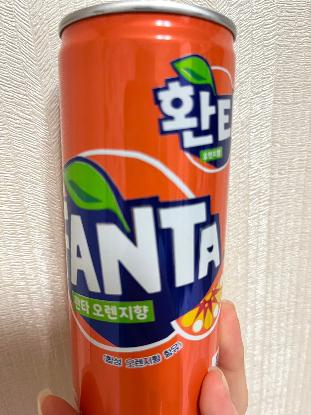Can: (55, 0, 242, 415)
